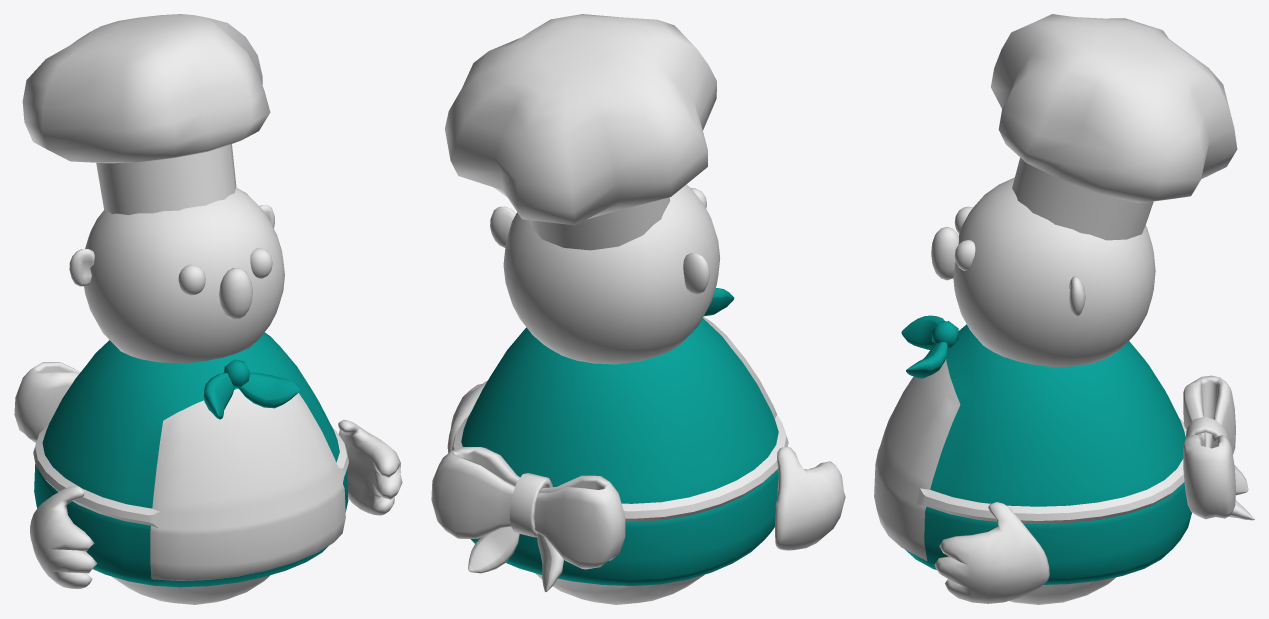
3 renders of one model, left to right at view 1: azimuth 30°, elevation 25°; view 2: azimuth 150°, elevation 25°; view 3: azimuth 270°, elevation 25°, orthographic. The views are drawn at different scales.
Parts seen in each view (by area): view 1: Body, Hat, Chef_Model_Head, Hand_r, Hand_l; view 2: Body, Hat, Chef_Model_Head, Hand_r, Hand_l; view 3: Body, Hat, Chef_Model_Head, Hand_l.
Part boxes in pixels (x1=…): Body: x1=14, y1=332, x2=348, y2=604; Hat: x1=22, y1=14, x2=270, y2=215; Chef_Model_Head: x1=69, y1=187, x2=284, y2=363; Hand_r: x1=30, y1=486, x2=97, y2=588; Hand_l: x1=338, y1=419, x2=402, y2=515; Body: x1=431, y1=288, x2=788, y2=604; Hat: x1=445, y1=14, x2=716, y2=250; Chef_Model_Head: x1=490, y1=184, x2=720, y2=364; Hand_r: x1=775, y1=446, x2=845, y2=550; Hand_l: x1=447, y1=380, x2=487, y2=453; Body: x1=874, y1=315, x2=1254, y2=604; Hat: x1=991, y1=14, x2=1237, y2=240; Chef_Model_Head: x1=931, y1=177, x2=1155, y2=367; Hand_l: x1=934, y1=502, x2=1049, y2=603.
Size of the model in its own units: 97.42 by 145 by 88.78.
